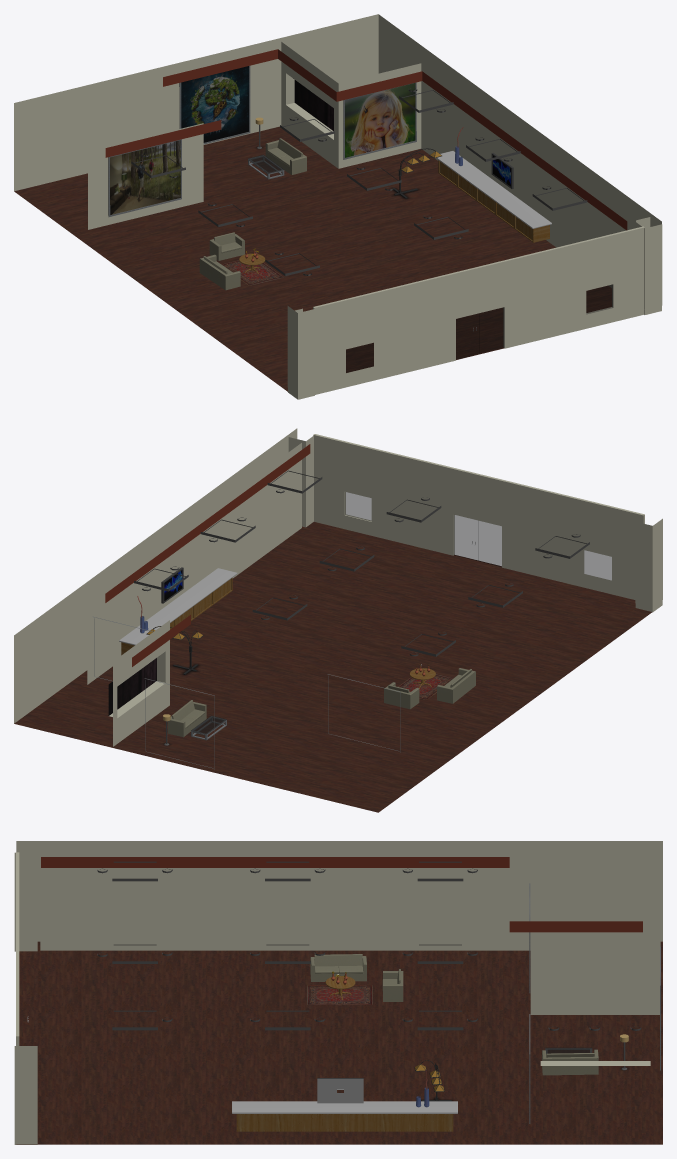
3 renders of one model, top to bottom at view 1: azimuth 30°, elevation 25°; view 2: azimuth 150°, elevation 25°; view 3: azimuth 270°, elevation 25°, orthographic. The views are drawn at different scales.
Visible parts, largest first — view 1: Floor1, Wall, Front_Wall, Frame_5, Frame_6, Frame_7, Desk, All_Light1, Piller_2, Door_Glass, Piller_1, Sofa3 (+3 smaller); view 2: Floor1, Wall, Front_Wall, Desk, All_Light1, Piller_2, Door_Glass, Piller_1, Sofa3, Sofa2, Sofa_2, Floor_Carpet (+1 smaller); view 3: Floor1, Wall, Desk, All_Light1, Piller_1, Piller_2, Sofa2, Floor_Carpet, Led, Sofa3, Front_Wall, Sofa_2.
Boxes of the visible parts, x1,y1,x2,y2 form: Floor1: (14,126,611,391); Wall: (14,14,661,312); Front_Wall: (313,226,644,394); Frame_5: (343,82,416,159); Frame_6: (108,139,181,216); Frame_7: (179,65,250,144); Desk: (436,151,551,242); All_Light1: (131,78,587,276); Piller_2: (287,306,315,399); Door_Glass: (456,307,503,359); Piller_1: (634,221,662,314); Sofa3: (265,138,306,174); Floor1: (14,522,652,812); Wall: (14,428,310,746); Front_Wall: (313,434,644,599); Desk: (119,568,237,655); All_Light1: (134,470,589,669); Piller_2: (635,518,662,612); Door_Glass: (454,515,501,566); Piller_1: (288,435,313,527); Sofa3: (168,700,206,737); Sofa2: (437,668,475,703); Sofa_2: (384,682,419,709); Floor_Carpet: (398,674,452,699); Floor1: (16,941,662,1144); Wall: (16,841,662,1065); Desk: (232,1101,457,1131); All_Light1: (97,861,641,1030); Piller_1: (14,1046,37,1144); Piller_2: (14,852,37,951); Sofa2: (310,954,366,981); Floor_Carpet: (307,985,372,1004); Led: (317,1078,363,1103); Sofa3: (542,1049,598,1075); Front_Wall: (16,852,19,1045); Sofa_2: (382,969,403,1001).
Size of the model in its own units: 15.66 by 3.64 by 21.15.
Materials: 35 (15 with a texture image).
